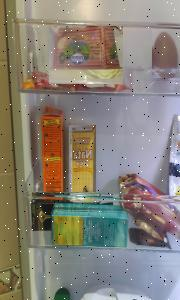Huevos: (152, 30, 180, 78)
Mantequilla: (49, 26, 123, 84)
Nata: (69, 125, 96, 192)
Queso: (170, 114, 180, 193)
